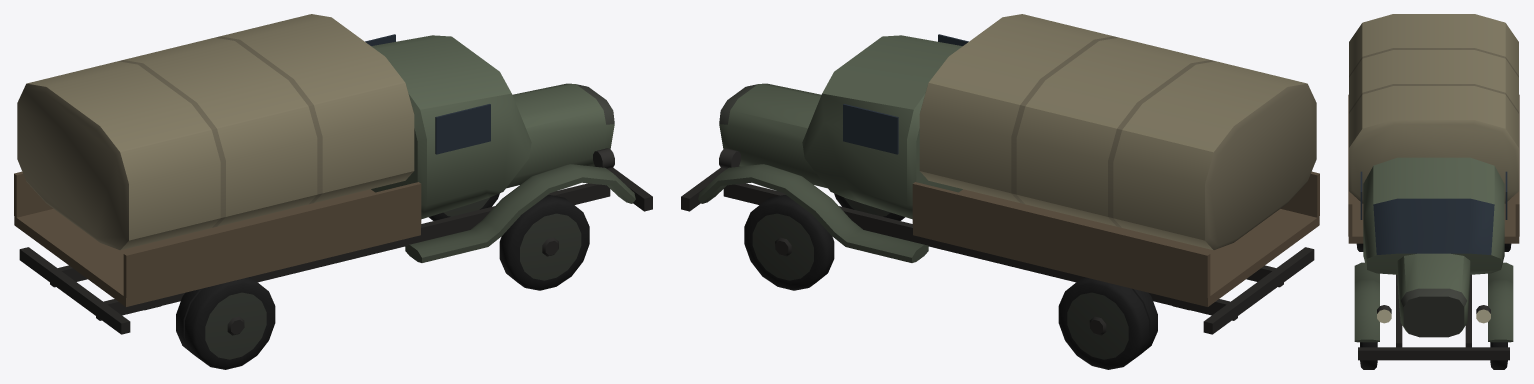
File: actor-truck.glb
3 views of the same model, side by side, from view 1: azimuth 30°, elevation 25°; view 2: azimuth 150°, elevation 25°; view 3: azimuth 270°, elevation 25° (orthographic). The views are drawn at different scales.
Parts seen in each view (by area): view 1: body, wheel_br, wheel_fr, wheel_fl; view 2: body, wheel_bl, wheel_fl, wheel_fr; view 3: body, wheel_fl, wheel_fr.
Part boxes in pixels (x1,y1,x2,y2): body: (14, 14, 652, 334); wheel_br: (176, 277, 275, 369); wheel_fr: (499, 195, 589, 290); wheel_fl: (429, 193, 499, 220); body: (681, 14, 1319, 334); wheel_bl: (1058, 277, 1157, 369); wheel_fl: (744, 195, 834, 290); wheel_fr: (834, 193, 904, 220); body: (1348, 14, 1519, 360); wheel_fl: (1490, 342, 1507, 369); wheel_fr: (1360, 342, 1377, 369).
Bounding box in the file's own units: 6.05 × 2.75 × 2.21.
